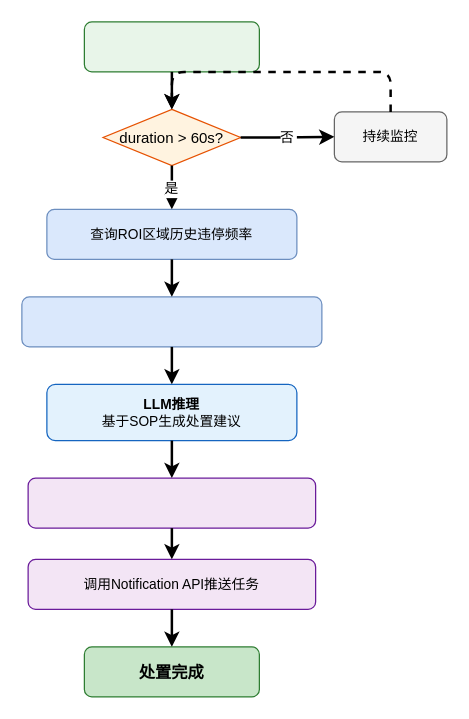
Some shapes in this 469 by 719 pixel diagram are drawn without their labels. The centre of each missing label's shape, as x and y in pixels:
"查询当前在岗安保人员及位置" goes at (171,321).
"调用SaaS Composer API创建工单" goes at (171,502).
"违停告警触发" goes at (171,46).
